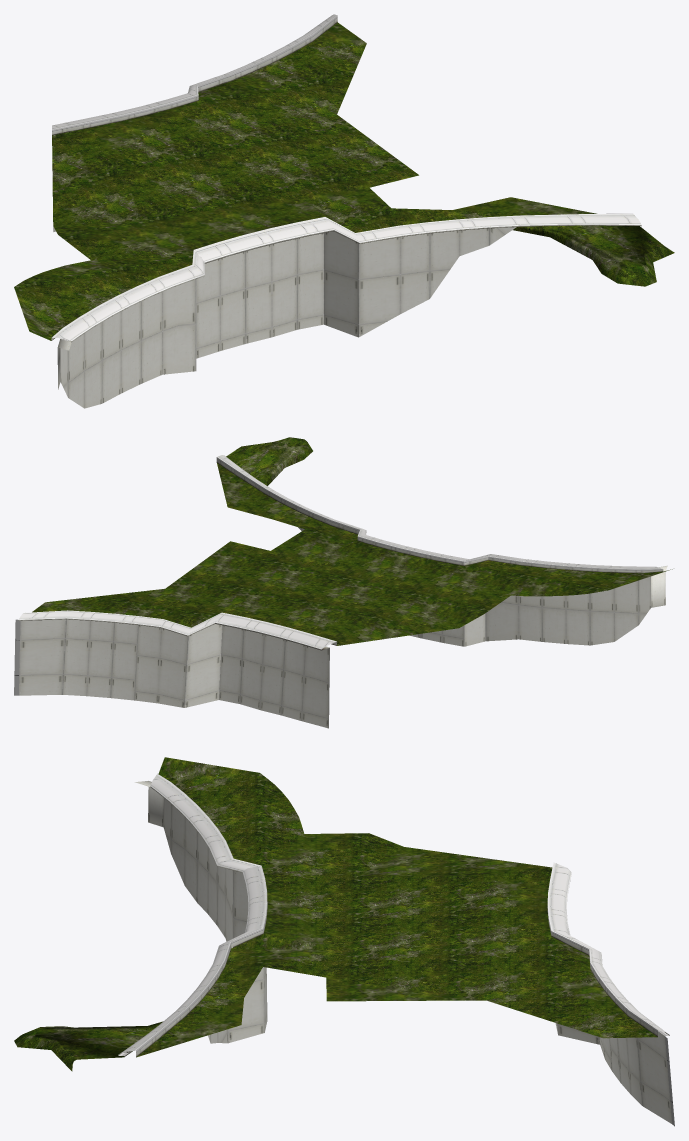
File: STA20_25.FBX
3 views of the same model, one above another, from view 1: azimuth 30°, elevation 25°; view 2: azimuth 150°, elevation 25°; view 3: azimuth 270°, elevation 25° (orthographic). The views are drawn at different scales.
Parts seen in each view (by area): view 1: STA20_25; view 2: STA20_25; view 3: STA20_25.
Part boxes in pixels (x1=…): STA20_25: x1=14, y1=14, x2=674, y2=408; STA20_25: x1=14, y1=437, x2=672, y2=728; STA20_25: x1=14, y1=757, x2=674, y2=1126.
Bounding box in the file's own units: 69.2 × 13.15 × 68.26.
